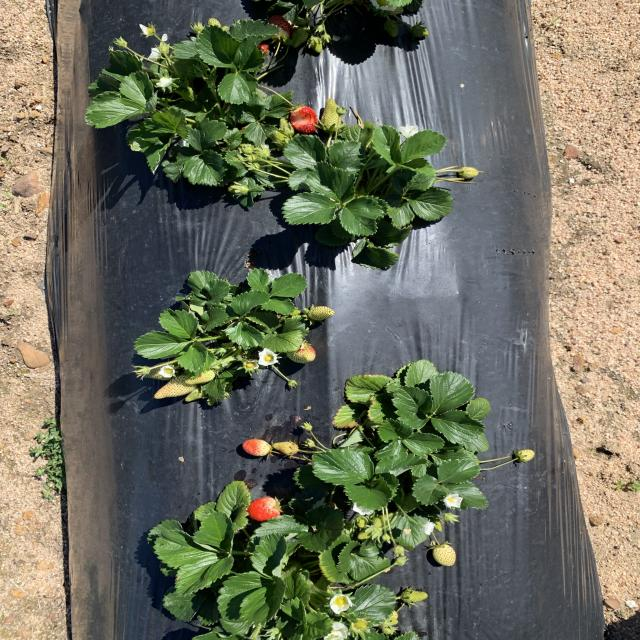unripe: (242, 497, 284, 522)
